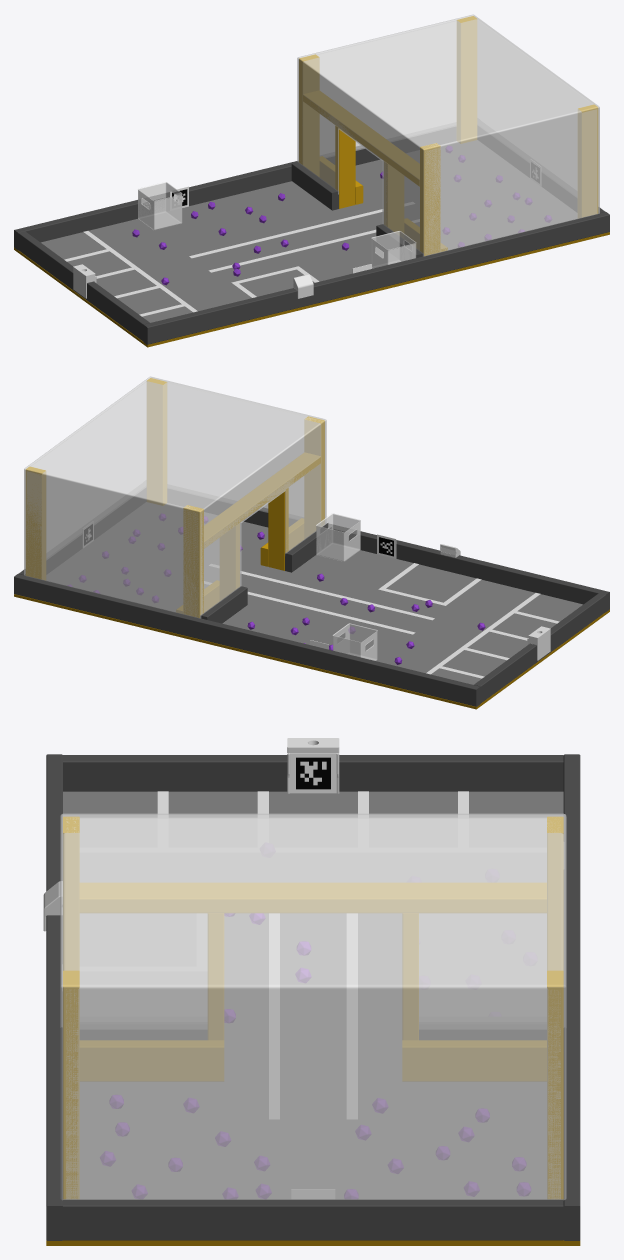
Rendered from Mining_Mayhem_Field.dae.
3 renders of one model, top to bottom at view 1: azimuth 30°, elevation 25°; view 2: azimuth 150°, elevation 25°; view 3: azimuth 270°, elevation 25°, orthographic. The views are drawn at different scales.
Parts seen in each view (by area): view 1: caveCloth, Foam Tile (×8), 2x4-96" painted (×2), 2x4-24" unpainted (×4), 2x4-45" painted (×2), CosmicShippingContainer (×2), 2x4-16" unpainted (×2), 2x4-42" unpainted, Floor(4'x8'x15/32"), 2x4-14.5" painted (×2), Cave Tape (×2), Rendezvous Tape (+2 smaller); view 2: caveCloth, Foam Tile (×8), 2x4-96" painted (×2), 2x4-24" unpainted (×4), 2x4-45" painted (×2), CosmicShippingContainer (×2), 2x4-16" unpainted (×2), 2x4-42" unpainted, Floor(4'x8'x15/32"), 2x4-14.5" painted (×2), Cave Tape (×2), Rendezvous Tape (+3 smaller); view 3: caveCloth, Foam Tile (×8), 2x4-45" painted (×2), 2x4-96" painted (×2), 2x4-42" unpainted, 2x4-24" unpainted (×4), 2x4-14.5" unpainted (×2), Cave Tape (×2), 2x4-16" unpainted (×2), Floor(4'x8'x15/32"), 2x4-14.5" painted (×2), aprilTag0 (+2 smaller).
Part boxes in pixels (box(x1,y1,x2,y2)): caveCloth: box(297, 14, 599, 256); Foam Tile (×8): box(41, 140, 577, 322); 2x4-96" painted (×2): box(14, 126, 609, 344); 2x4-24" unpainted (×4): box(299, 16, 598, 255); 2x4-45" painted (×2): box(18, 126, 605, 341); CosmicShippingContainer (×2): box(137, 182, 416, 268); 2x4-16" unpainted (×2): box(335, 126, 403, 232); 2x4-42" unpainted: box(303, 91, 419, 186); Floor(4'x8'x15/32"): box(14, 232, 609, 347); 2x4-14.5" painted (×2): box(291, 162, 423, 257); Cave Tape (×2): box(189, 202, 419, 272); Rendezvous Tape: box(64, 231, 197, 316); caveCloth: box(24, 376, 326, 618); Foam Tile (×8): box(46, 502, 582, 684); 2x4-96" painted (×2): box(14, 488, 609, 706); 2x4-24" unpainted (×4): box(25, 378, 324, 617); 2x4-45" painted (×2): box(18, 488, 605, 703); CosmicShippingContainer (×2): box(316, 513, 377, 660); 2x4-16" unpainted (×2): box(220, 488, 288, 600); 2x4-42" unpainted: box(204, 453, 320, 548); Floor(4'x8'x15/32"): box(14, 594, 609, 709); 2x4-14.5" painted (×2): box(200, 524, 331, 623); Cave Tape (×2): box(204, 564, 434, 634); Rendezvous Tape: box(426, 593, 559, 678); caveCloth: box(60, 813, 566, 1200); Foam Tile (×8): box(63, 791, 563, 1198); 2x4-45" painted (×2): box(63, 755, 563, 1240); 2x4-96" painted (×2): box(46, 754, 580, 1240); 2x4-42" unpainted: box(80, 883, 546, 912); 2x4-24" unpainted (×4): box(63, 816, 563, 1199); 2x4-14.5" unpainted (×2): box(80, 1040, 546, 1081); Cave Tape (×2): box(269, 913, 357, 1119); 2x4-16" unpainted (×2): box(208, 913, 418, 1039); Floor(4'x8'x15/32"): box(46, 1240, 580, 1245); 2x4-14.5" painted (×2): box(80, 1029, 546, 1039); aprilTag0: box(289, 753, 337, 793).
Bounding box in the file's own units: 2.44 × 1.23 × 0.6406.
